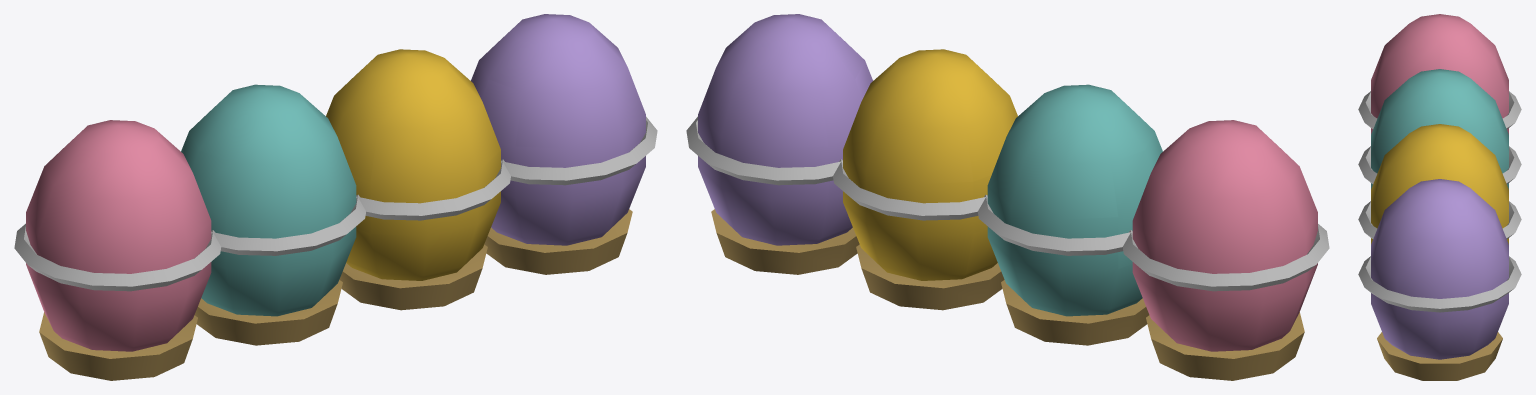
Rendered from pr-eggs.glb.
The picture shows the model from 3 angles, left to right: view 1: azimuth 30°, elevation 25°; view 2: azimuth 150°, elevation 25°; view 3: azimuth 270°, elevation 25°; orthographic projection. The views are drawn at different scales.
Bounding box in the file's own units: 1.49 × 0.54 × 0.44.
